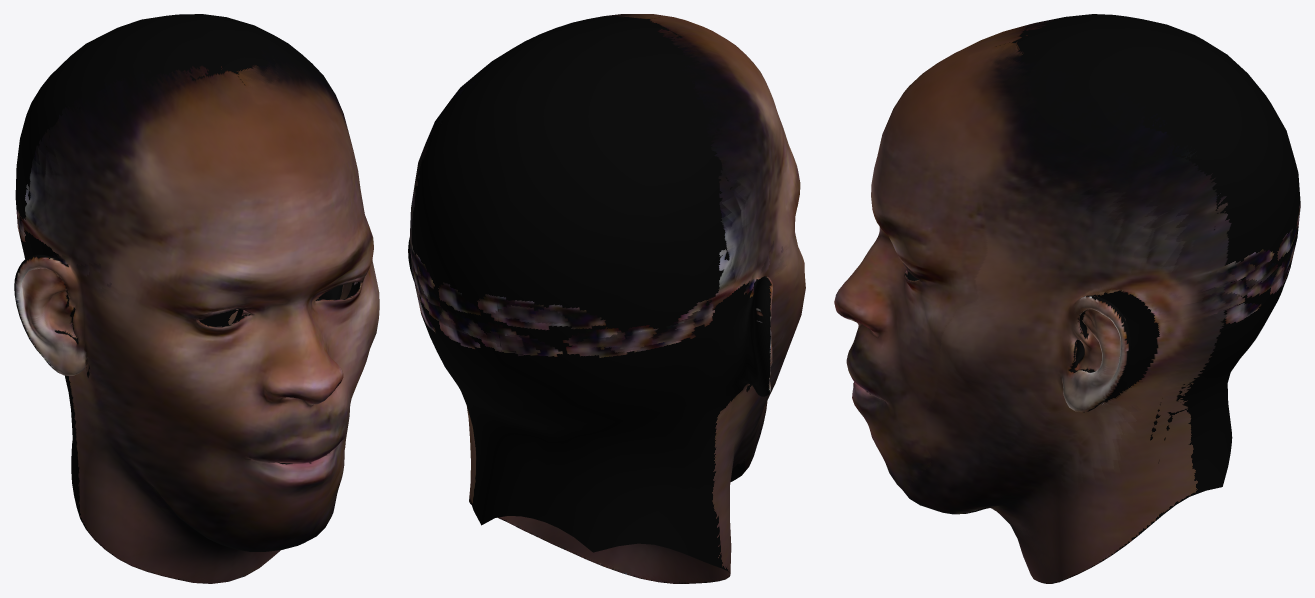
The model's file is Chew.obj.
The picture shows the model from 3 angles, left to right: view 1: azimuth 30°, elevation 25°; view 2: azimuth 150°, elevation 25°; view 3: azimuth 270°, elevation 25°; orthographic projection. The views are drawn at different scales.
Size of the model in its own units: 191 by 285 by 224.
